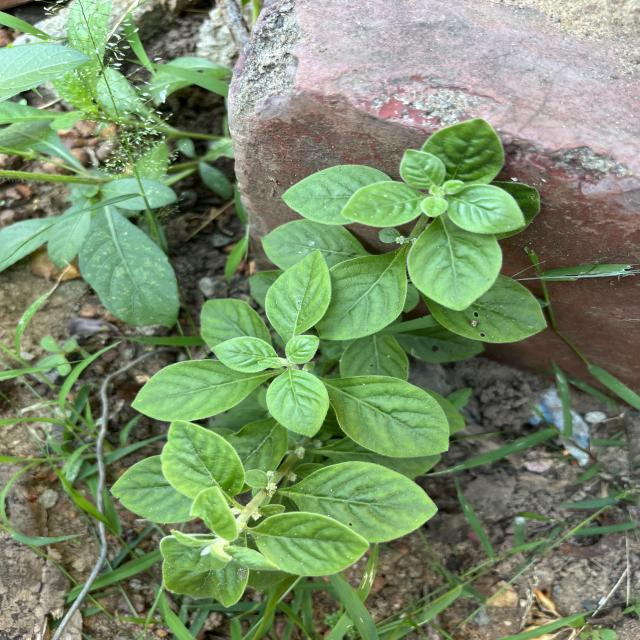Aerva lanata: (280, 458, 441, 546), (327, 373, 452, 460), (128, 357, 276, 425), (312, 247, 411, 343), (278, 162, 397, 228), (264, 366, 332, 439)
